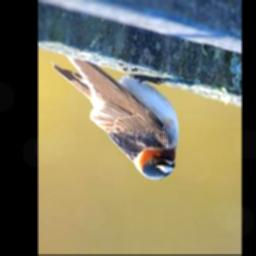Swallow: (51, 52, 180, 180)
